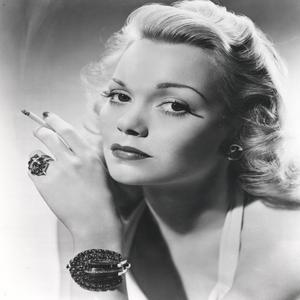cigarette: (17, 105, 71, 145)
